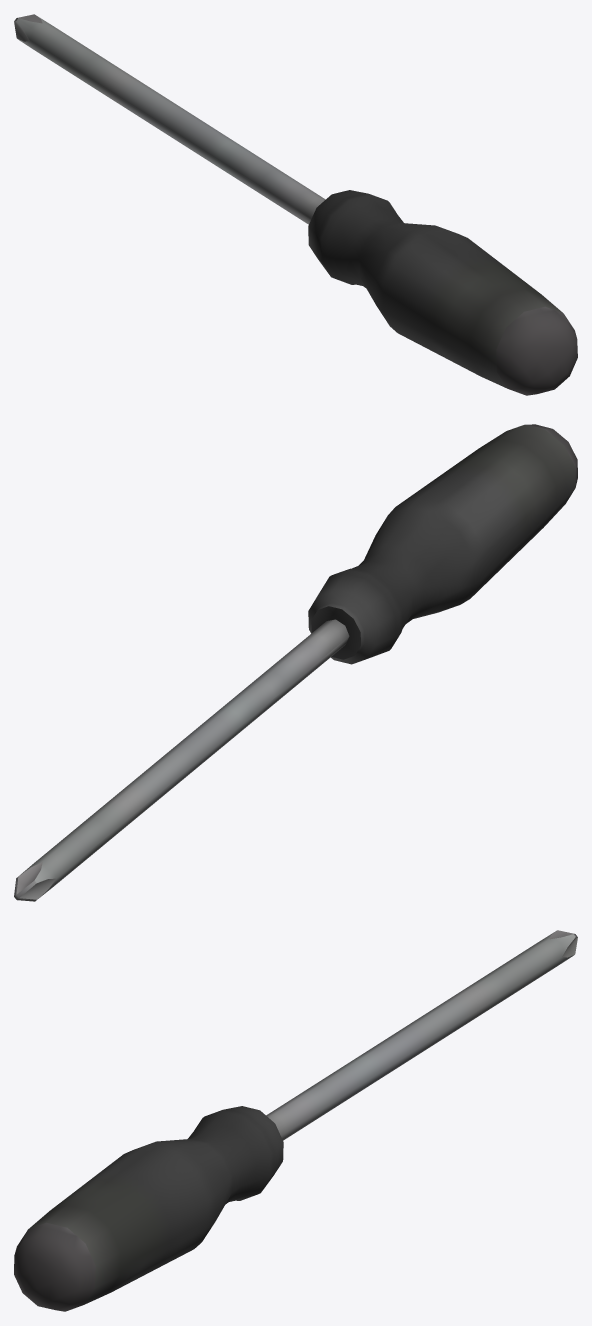
The model's file is SM_Screw_3_8f5039.glb.
3 views of the same model, one above another, from view 1: azimuth 30°, elevation 25°; view 2: azimuth 150°, elevation 25°; view 3: azimuth 330°, elevation 25° (orthographic).
Size of the model in its own units: 0.0328 by 0.0329 by 0.3065.
1 material, 1 textured.
